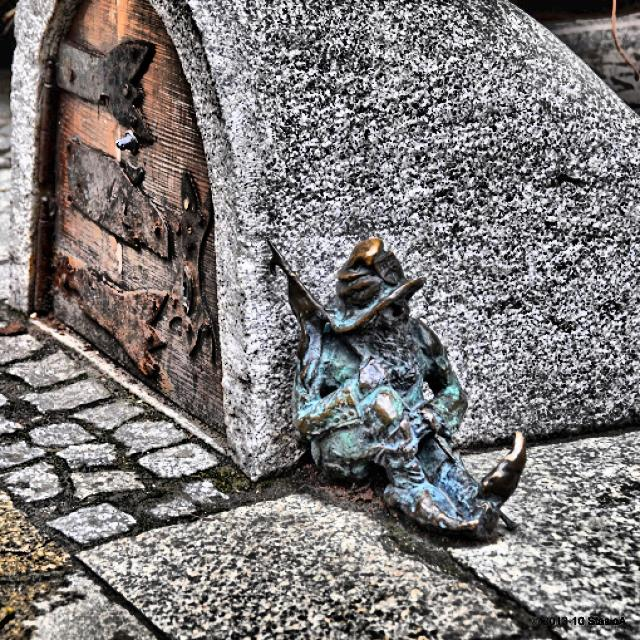Spioch: (270, 239, 525, 538)
